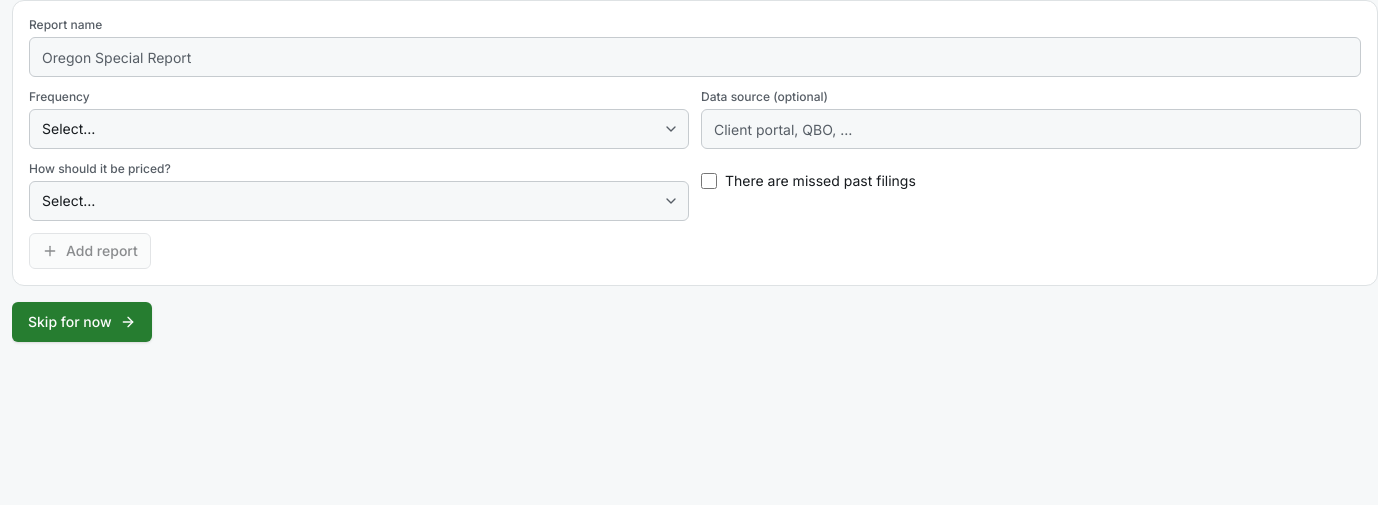
Test: M7: difficulty_row_groups_tier_hours (10_10 00:20:21) › the three tier-hour inputs render under one Difficulty header row
Pick "Estimated hours" on the draft's pricing-mode select.
Step 1. Select "Estimated hours" in the dropdown named "How should it be priced?" → (359, 201), box [29,181,689,221]
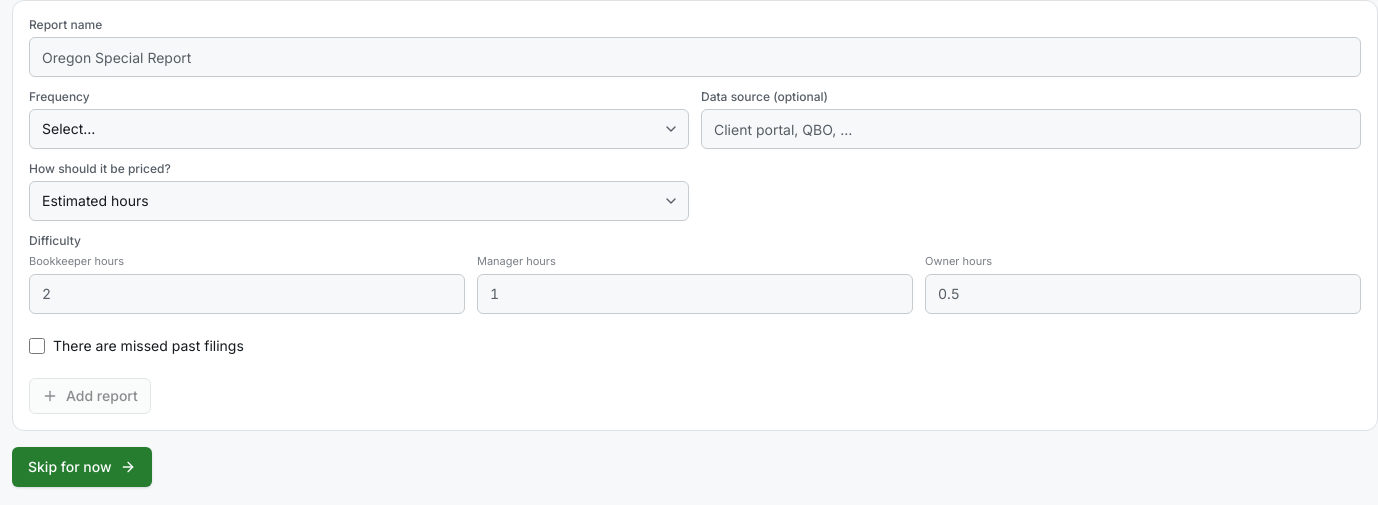
Expected: the text "Difficulty" is shown, [29,233,81,248]
Expected: the number field named "Bookkeeper hours" is shown, [29,274,465,314]
Expected: the number field named "Manager hours" is shown, [477,274,913,314]
Flat pricing hides the whole row, field and header alike.
Step 2. Select "Flat price per report" in the dropdown named "How should it be priced?" → (359, 201), box [29,181,689,221]
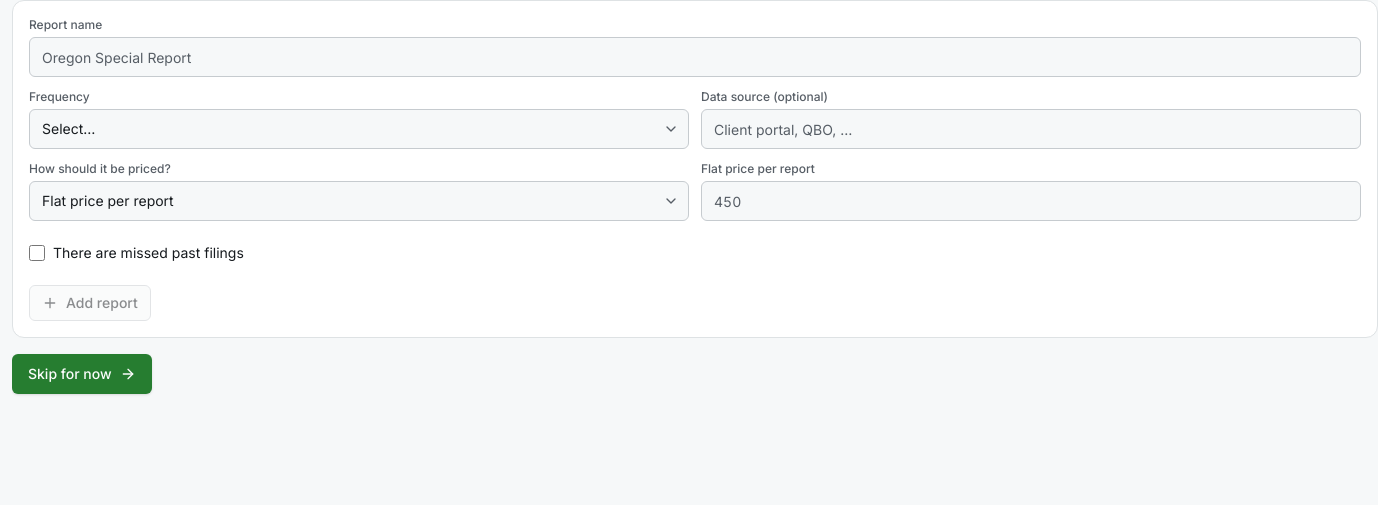
Expected: the element with test id "row-group-difficulty" is gone
